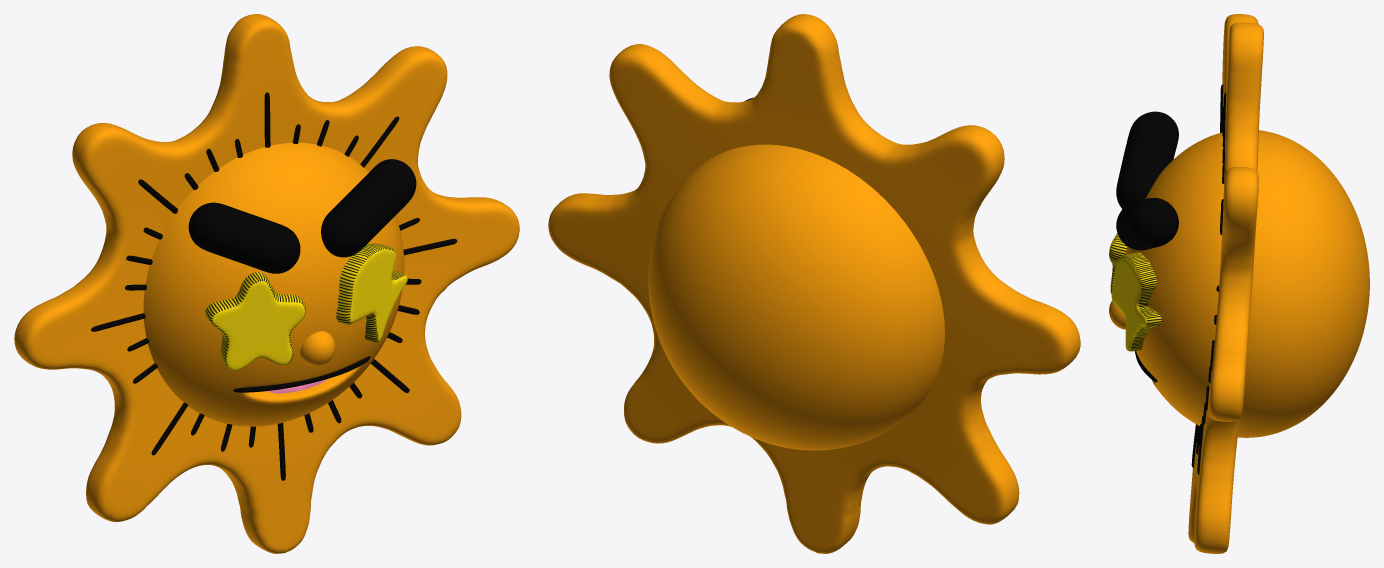
File: glo_face.glb
3 views of the same model, side by side, from view 1: azimuth 30°, elevation 25°; view 2: azimuth 150°, elevation 25°; view 3: azimuth 270°, elevation 25° (orthographic). The views are drawn at different scales.
Visible parts, largest first — view 1: PM3D_Sphere3D1_1_copy1; view 2: PM3D_Sphere3D1_1_copy1; view 3: PM3D_Sphere3D1_1_copy1.
Boxes of the visible parts, x1,y1,x2,y2 form: PM3D_Sphere3D1_1_copy1: (14,14,519,553); PM3D_Sphere3D1_1_copy1: (548,14,1080,553); PM3D_Sphere3D1_1_copy1: (1109,14,1369,553).
Size of the model in its own units: 8.2 by 8.18 by 3.74.
Materials: 5 (5 with a texture image).
